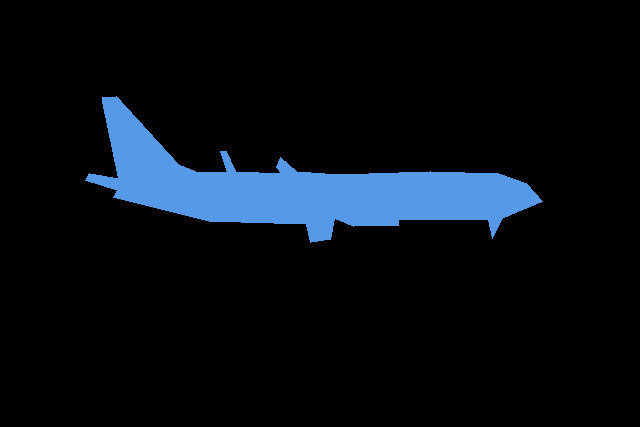Airplane: (85, 96, 542, 243)
